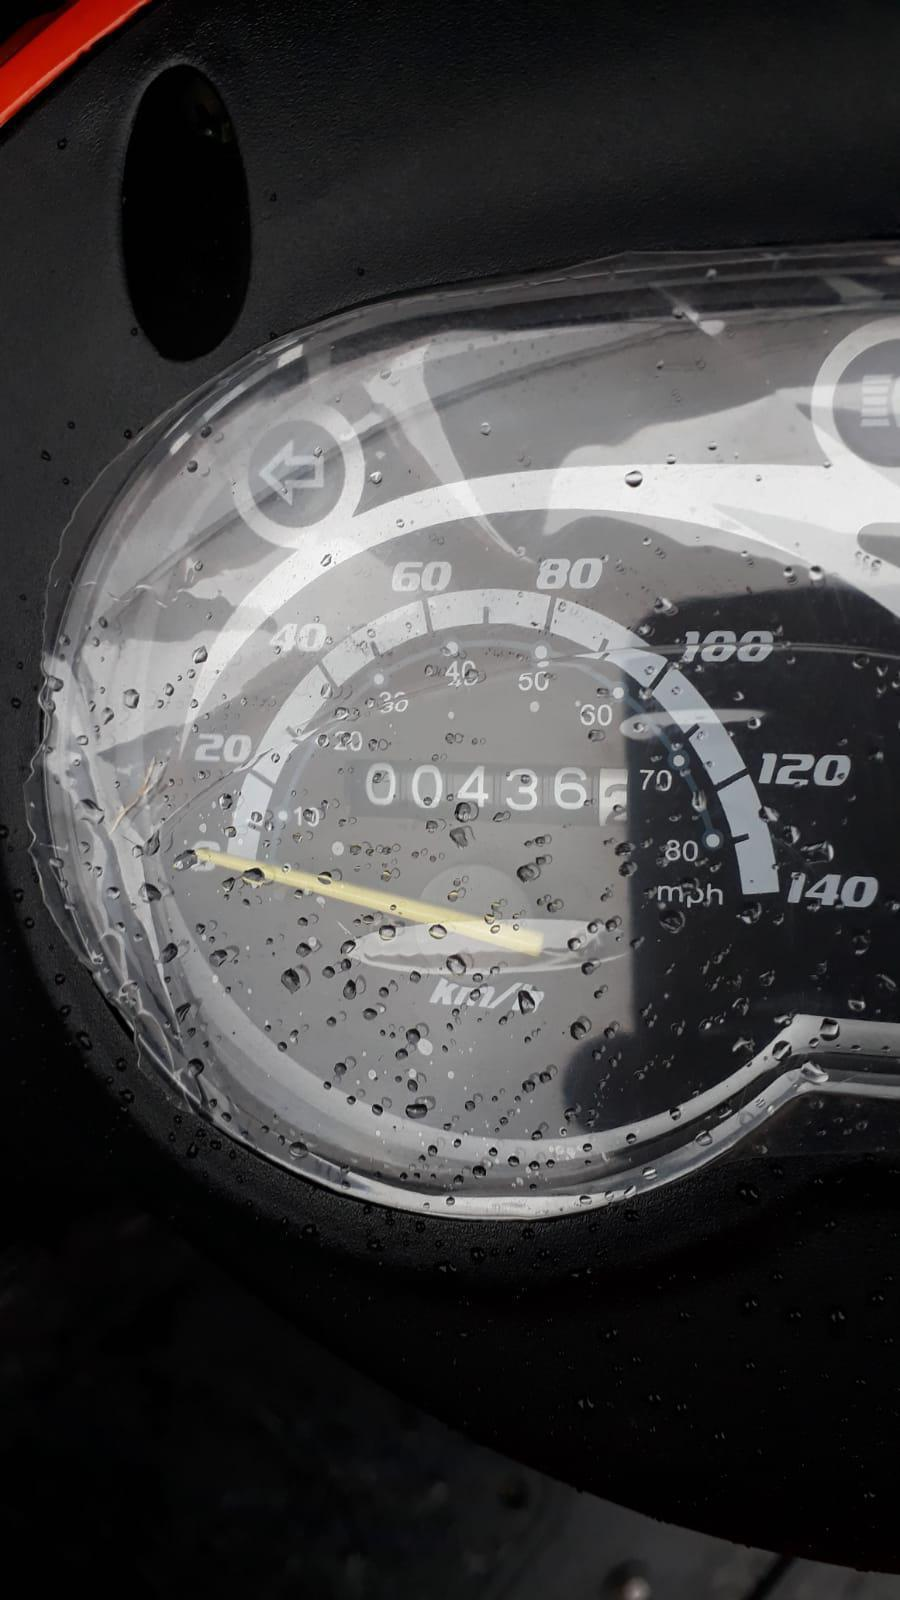0: (411, 763, 443, 809), (365, 762, 396, 807)
2: (603, 784, 632, 826)
3: (503, 767, 538, 812)
4: (456, 764, 490, 809)
6: (552, 767, 588, 811)
odometer: (338, 757, 633, 830)
